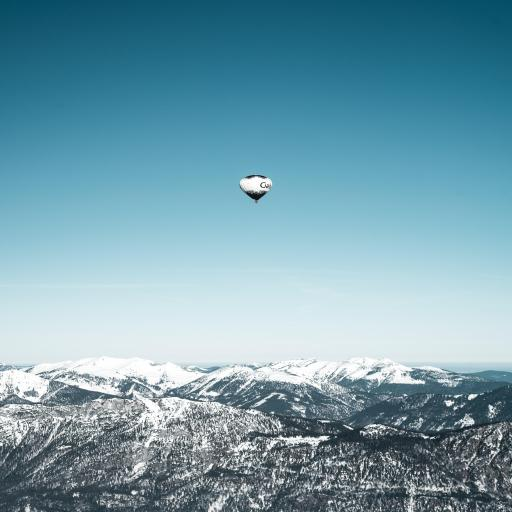hot air ballon: (234, 172, 276, 207)
